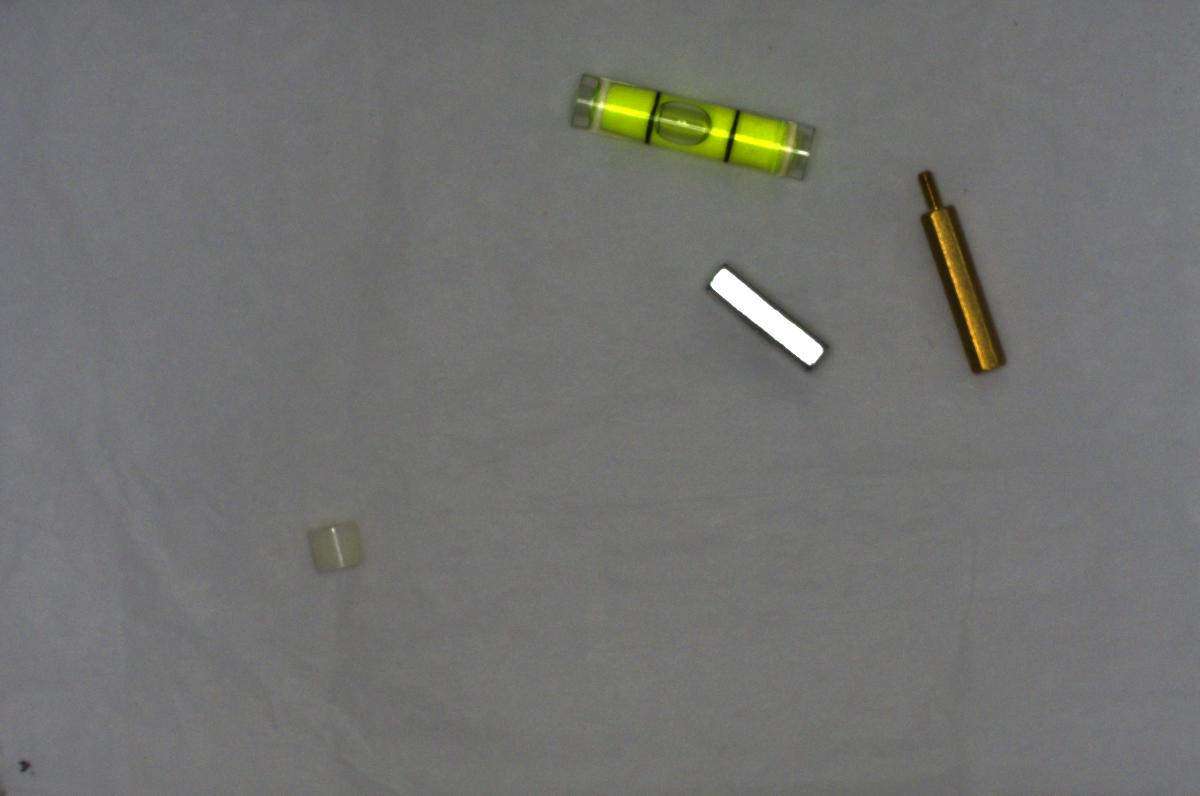Hexagon pillar: (907, 167, 1011, 380)
Horizontal bubble: (558, 72, 817, 185)
Plastic cushion pillar: (301, 513, 361, 578)
Rectangular nut: (702, 263, 835, 374)
